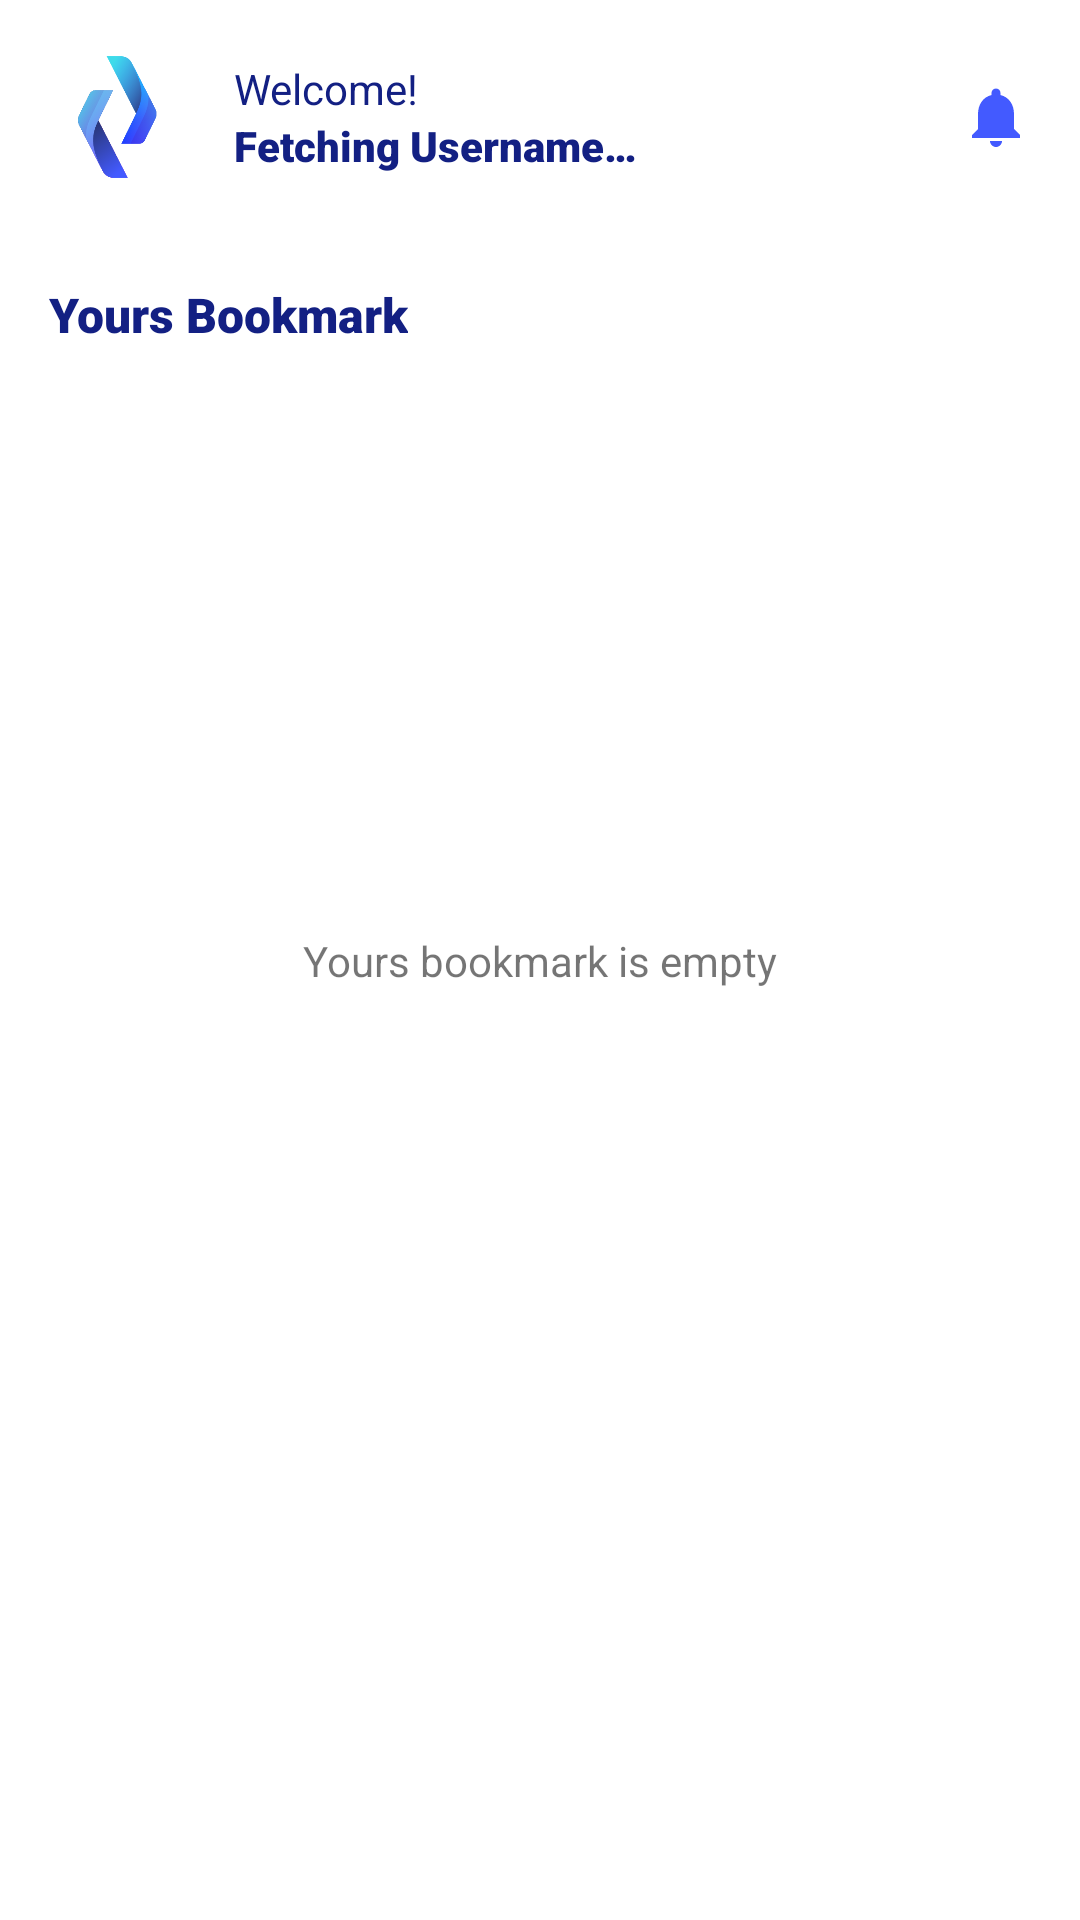

Locate icon controls on the screen. Image size 1080 x 1920, boxes as bbox=(x1, y1, x2, y2).
notifications: bbox=(972, 88, 1020, 147)
